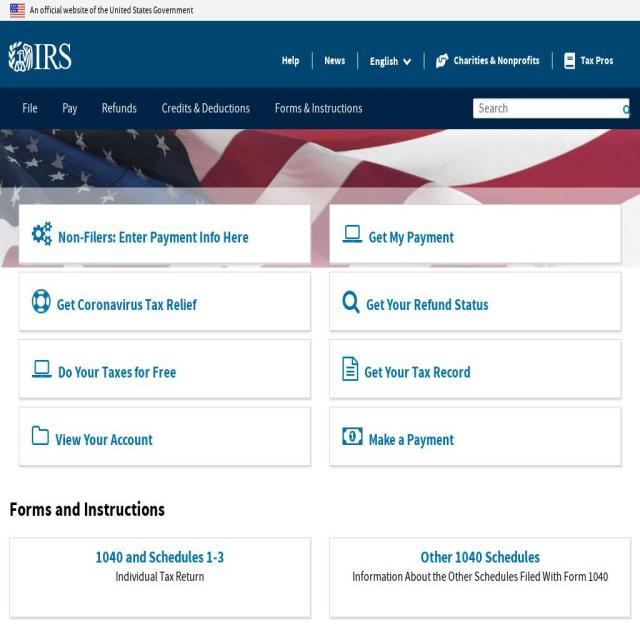button: (9, 538, 310, 618), (330, 538, 630, 618), (329, 204, 622, 264), (329, 406, 622, 466), (18, 204, 310, 264), (18, 406, 310, 466), (329, 272, 622, 331), (329, 339, 622, 398), (18, 272, 310, 331), (18, 339, 310, 398), (436, 44, 540, 78), (9, 42, 101, 72), (564, 44, 613, 78), (369, 46, 412, 78), (324, 44, 345, 78), (282, 44, 300, 78), (618, 99, 636, 121)
field: (473, 98, 629, 119)
heading: (0, 0, 640, 640), (9, 499, 630, 521)
image: (0, 130, 640, 268), (0, 255, 640, 338), (9, 42, 71, 72)
link: (162, 99, 250, 140), (275, 99, 363, 140), (102, 99, 137, 140), (22, 99, 38, 140), (62, 99, 77, 140)
text: (22, 538, 298, 568), (342, 538, 618, 568), (352, 568, 608, 585), (58, 227, 249, 248), (57, 294, 196, 316), (366, 294, 488, 316), (58, 362, 176, 383), (30, 4, 193, 18), (364, 362, 470, 383), (56, 429, 152, 451), (368, 429, 454, 451), (368, 227, 454, 248), (116, 568, 204, 585), (369, 53, 400, 70), (10, 4, 25, 18)
